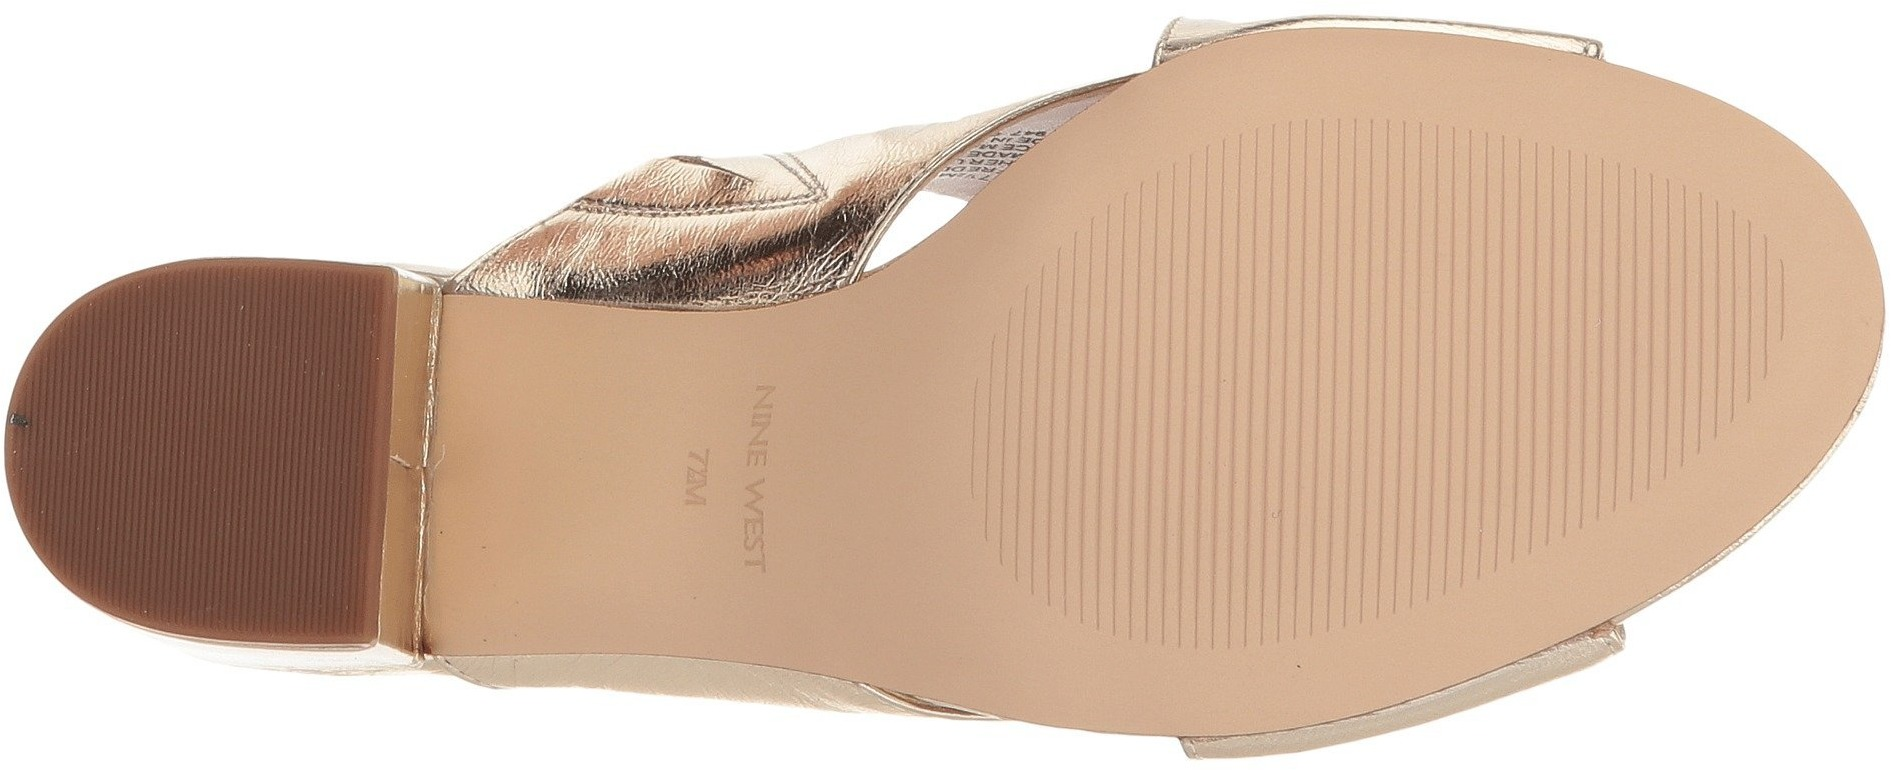exclude: (412, 210, 955, 734)
other: (1299, 140, 1640, 492), (1003, 282, 1296, 587), (86, 323, 341, 595), (1650, 217, 1823, 412)
text: (671, 383, 806, 523), (725, 527, 794, 595)
